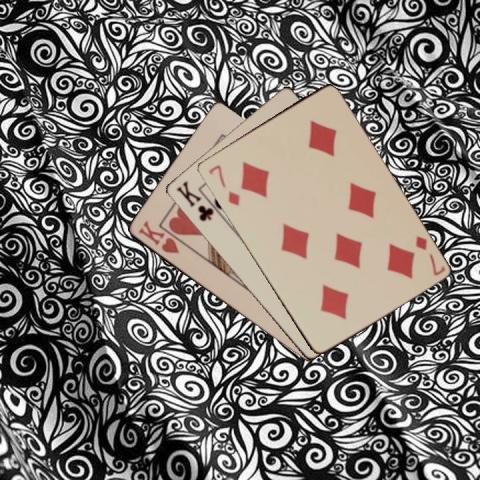7d: (205, 162, 241, 208), (412, 233, 446, 277)
Kc: (173, 178, 215, 223)
Kh: (134, 218, 180, 255)
